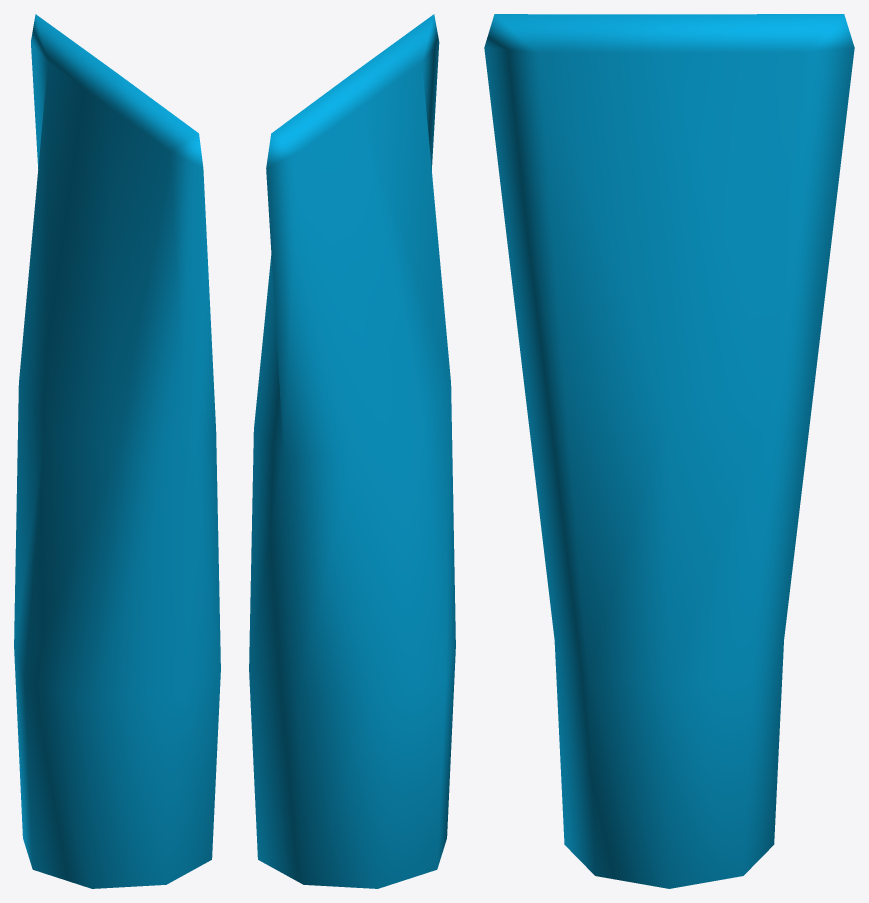
Rendered from Flacon_01_Lod1.fbx.
3 views of the same model, side by side, from view 1: azimuth 30°, elevation 25°; view 2: azimuth 150°, elevation 25°; view 3: azimuth 270°, elevation 25° (orthographic). The views are drawn at different scales.
Parts seen in each view (by area): view 1: Flacon_01_Lod1; view 2: Flacon_01_Lod1; view 3: Flacon_01_Lod1.
Part boxes in pixels (left/top/right/bottom): Flacon_01_Lod1: left=14, top=14, right=220, bottom=888; Flacon_01_Lod1: left=249, top=14, right=455, bottom=888; Flacon_01_Lod1: left=484, top=14, right=854, bottom=888.
Size of the model in its own units: 5 by 19.98 by 8.08.
